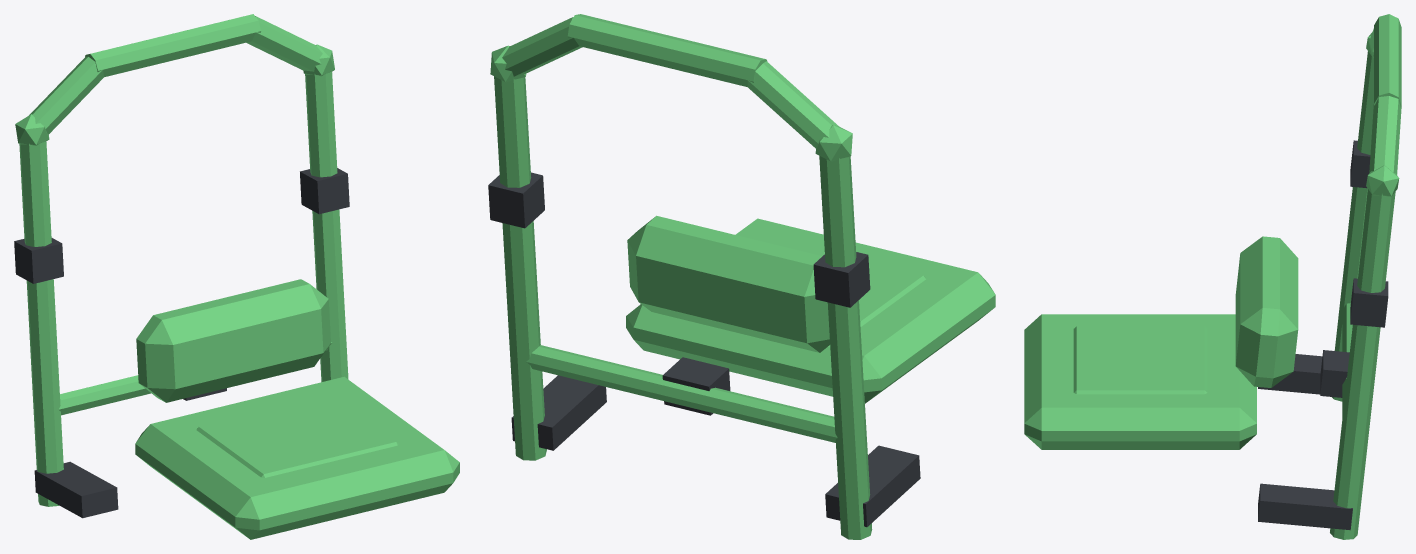
File: chair_m2_2.glb
3 views of the same model, side by side, from view 1: azimuth 30°, elevation 25°; view 2: azimuth 150°, elevation 25°; view 3: azimuth 270°, elevation 25° (orthographic). The views are drawn at different scales.
Parts seen in each view (by area): view 1: chair_m2_2_mesh; view 2: chair_m2_2_mesh; view 3: chair_m2_2_mesh.
Boxes of the visible parts, x1=… form: chair_m2_2_mesh: x1=14, y1=14, x2=459, y2=539; chair_m2_2_mesh: x1=488, y1=14, x2=995, y2=539; chair_m2_2_mesh: x1=1024, y1=14, x2=1401, y2=539.
Bounding box in the file's own units: 0.62 × 0.7825 × 0.6484.
